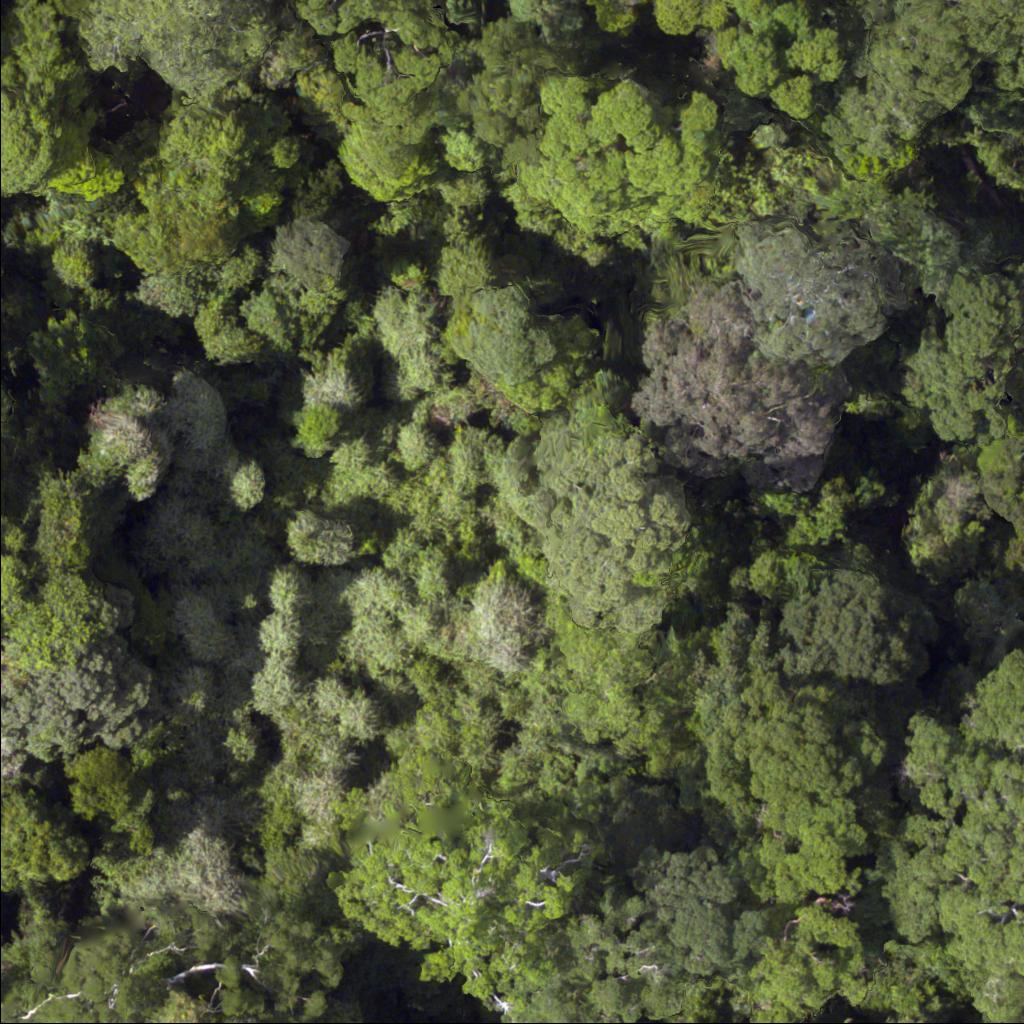crown: (889, 659, 1023, 1023)
